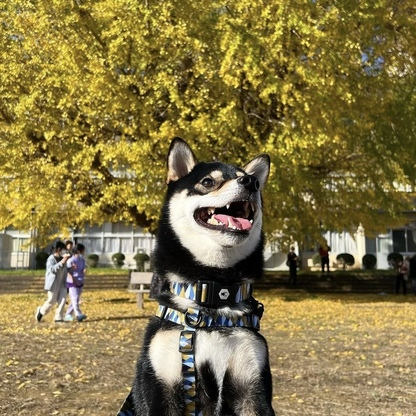shiba: (114, 131, 284, 416)
